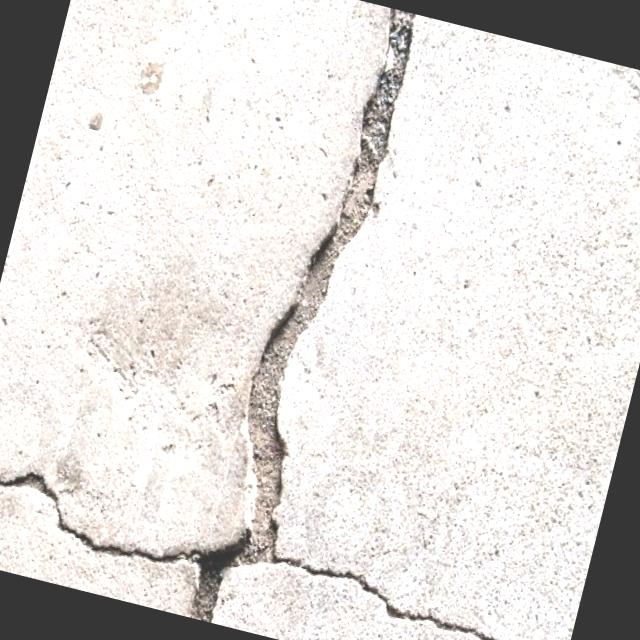crack: (179, 0, 416, 633), (265, 547, 574, 640), (0, 448, 203, 576)
